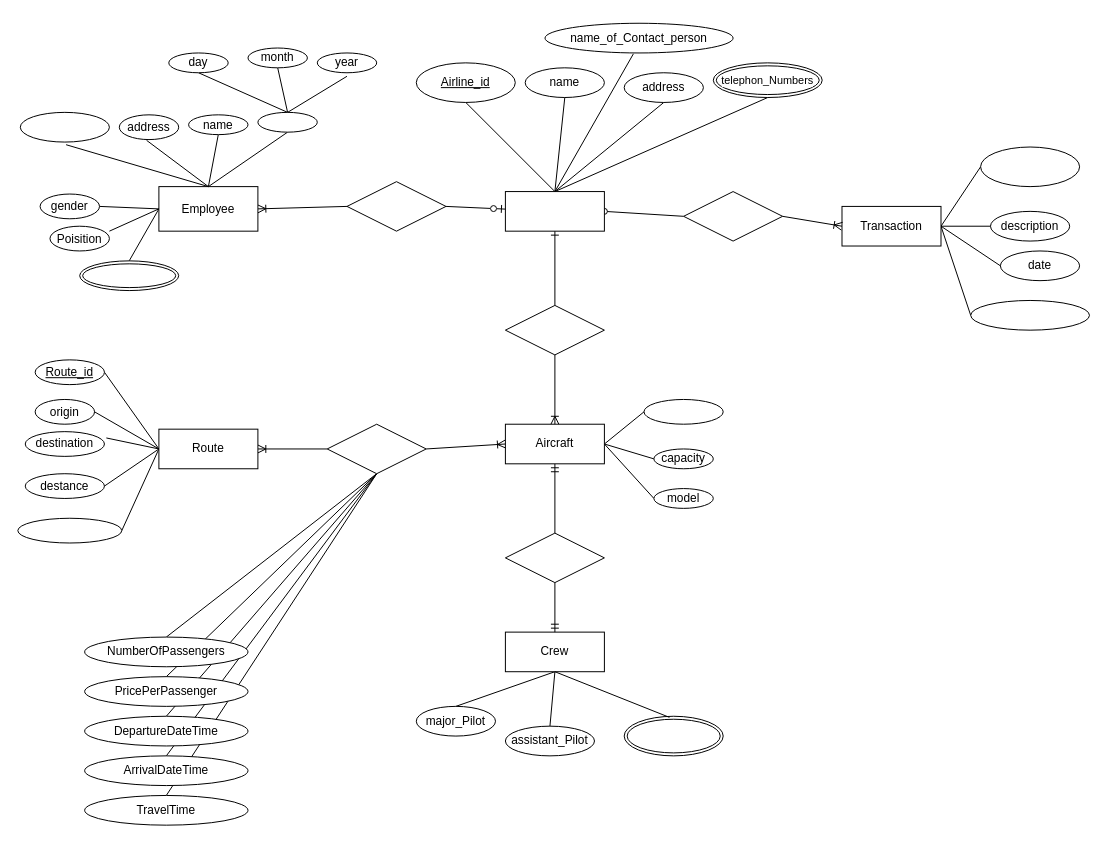
Image size: 1107x842. Some labels were removed from this diagram. Here are the shapes that lost their labels. From the top down, the centre of each, then its label:
(64,126): employee_id
(287,121): birthDay
(1030,166): Transaction_id
(396,206): work
(554,211): Airline
(733,216): keepInfo
(129,275): qualifications
(554,329): own
(1029,314): amount_of_money
(683,411): Aircraft_id
(376,448): assigen
(69,530): classificaton
(554,557): has
(673,735): hostess
